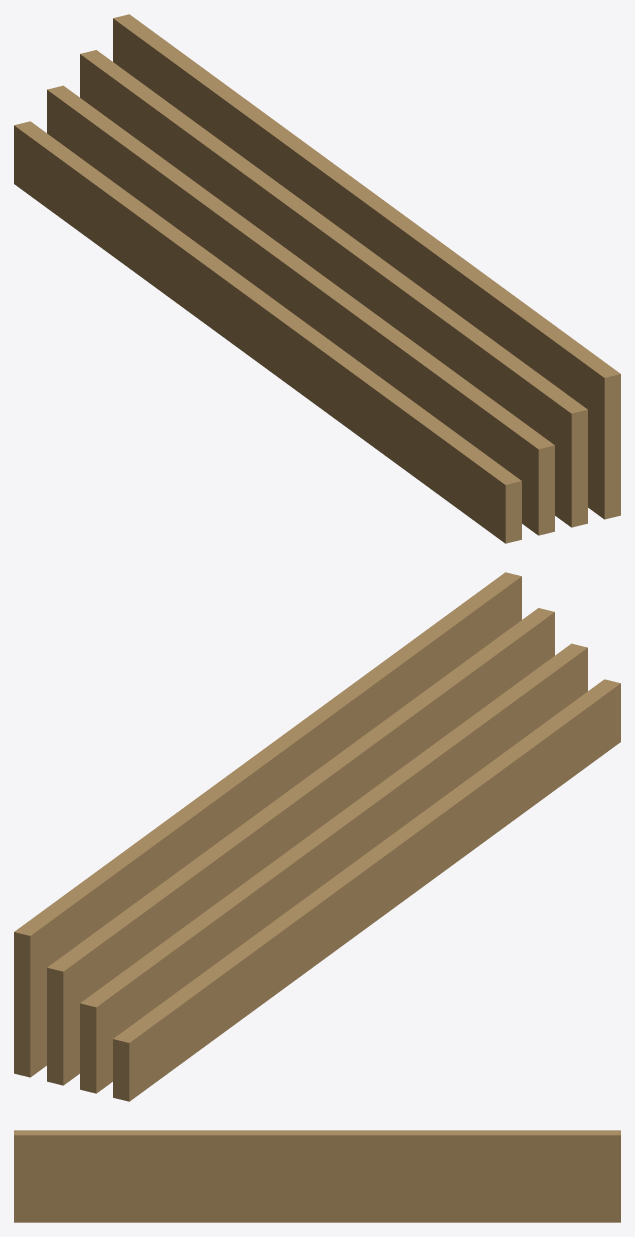
File: StandsW_Seats.fbx
The picture shows the model from 3 angles, top to bottom: view 1: azimuth 30°, elevation 25°; view 2: azimuth 150°, elevation 25°; view 3: azimuth 270°, elevation 25°; orthographic projection. The views are drawn at different scales.
Parts seen in each view (by area): view 1: TierW1.001; view 2: TierW1.001; view 3: TierW1.001.
Part boxes in pixels (x1=…): TierW1.001: x1=14, y1=14, x2=620, y2=543; TierW1.001: x1=14, y1=572, x2=620, y2=1101; TierW1.001: x1=14, y1=1130, x2=620, y2=1222.
Size of the model in its own units: 3500 by 4100 by 25800.
